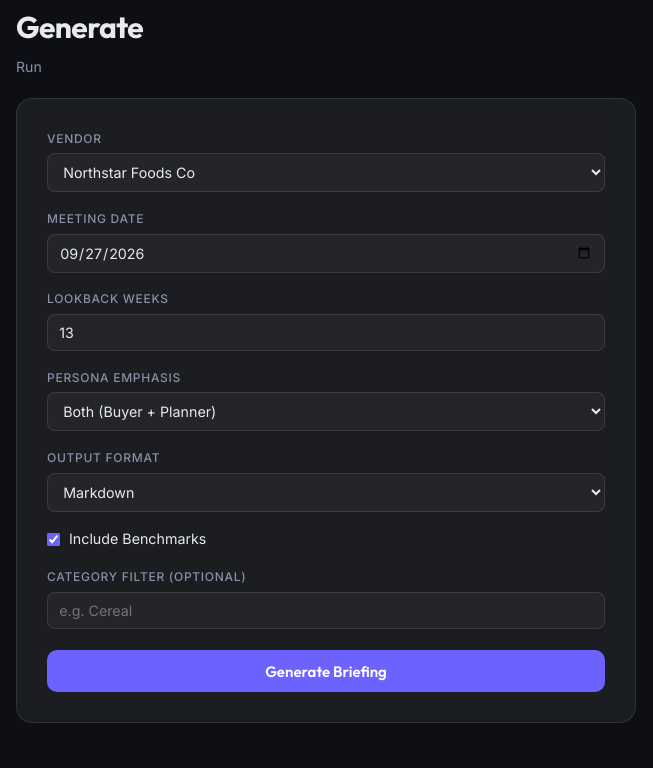
Test case: BriefingCreateForm › shows generic error when non-network exception is thrown
(page scrolled)
Click the button "Generate Briefing".
click(326, 671)  # box [47,650,605,692]
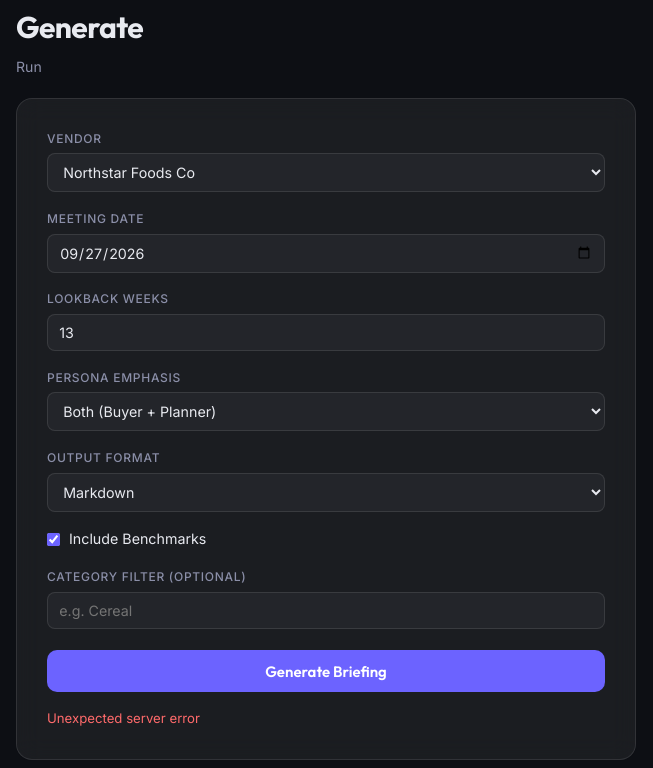
Expected: the text "Unexpected server error" is shown, [47,710,200,726]
